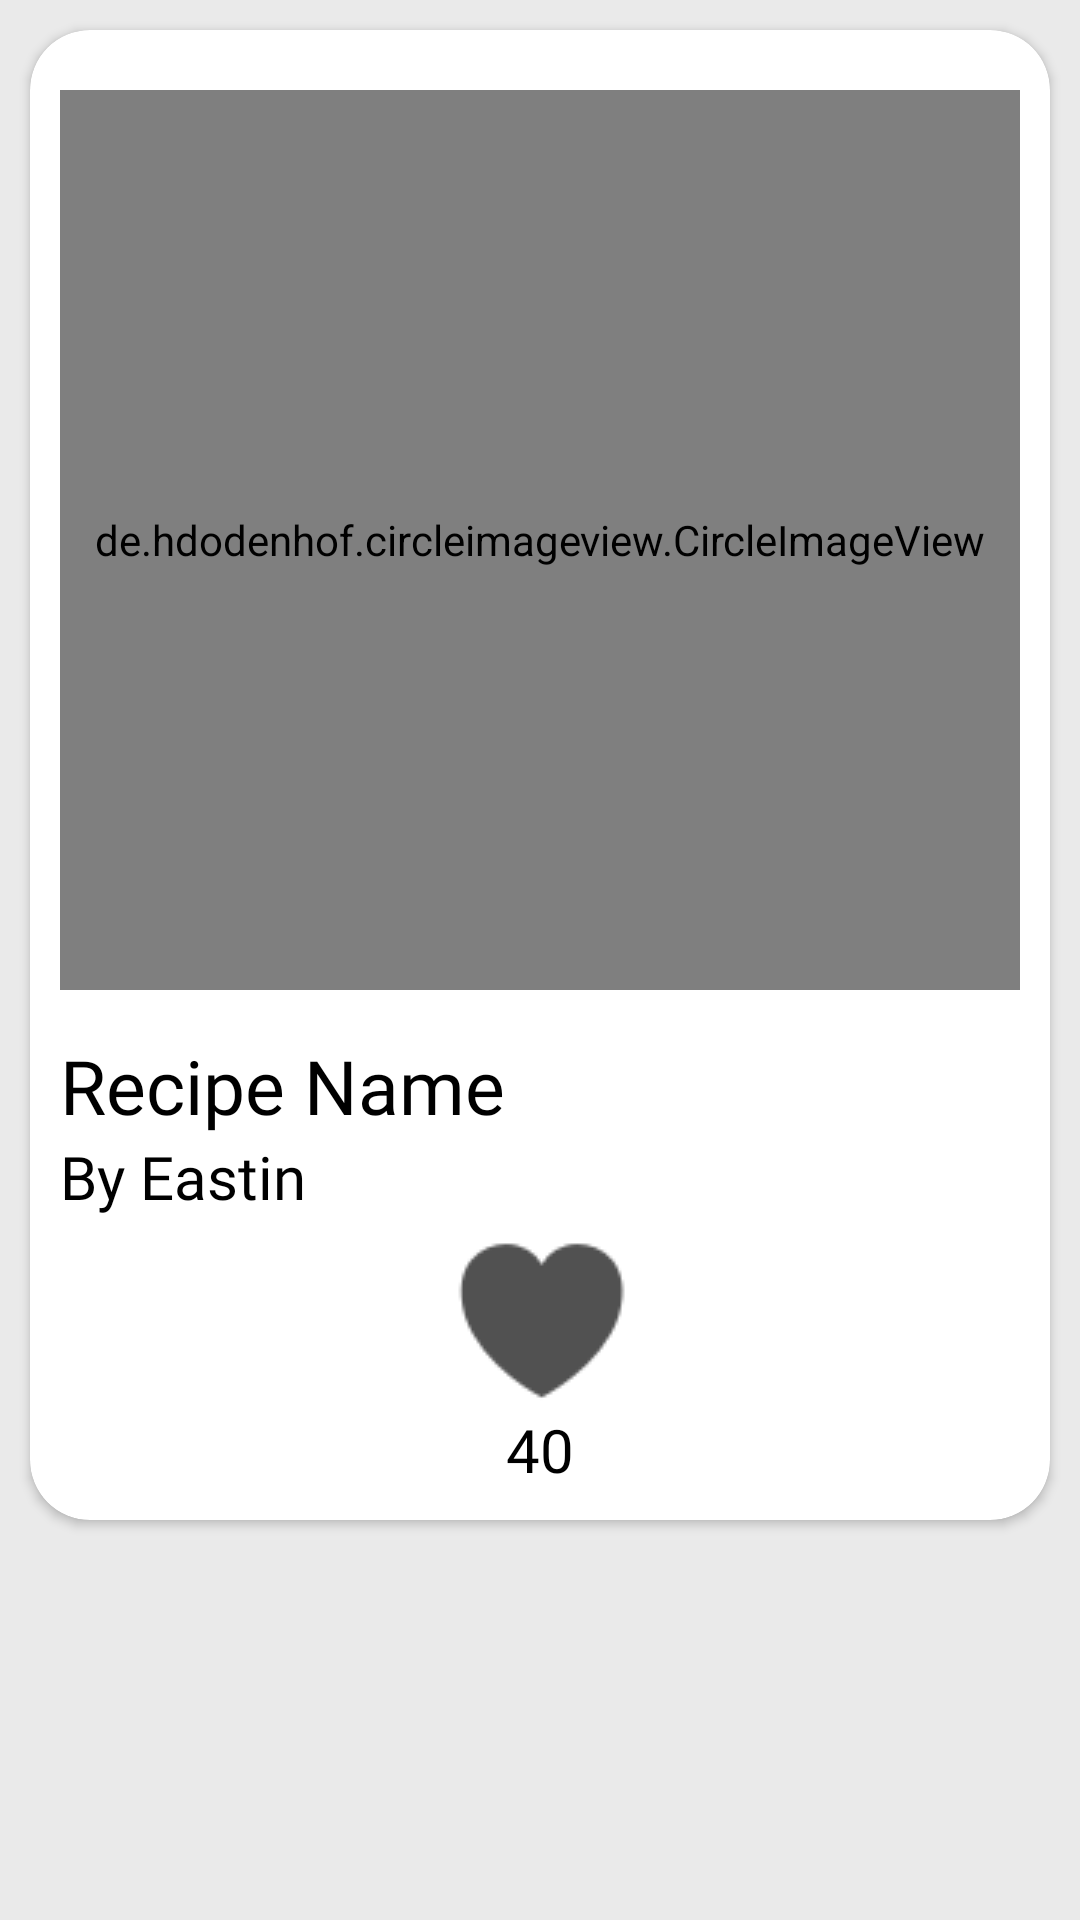

Screen size 1080px x 1920px. Icon name, then its center in pixels as [x,y]:
like: [542,1320]
